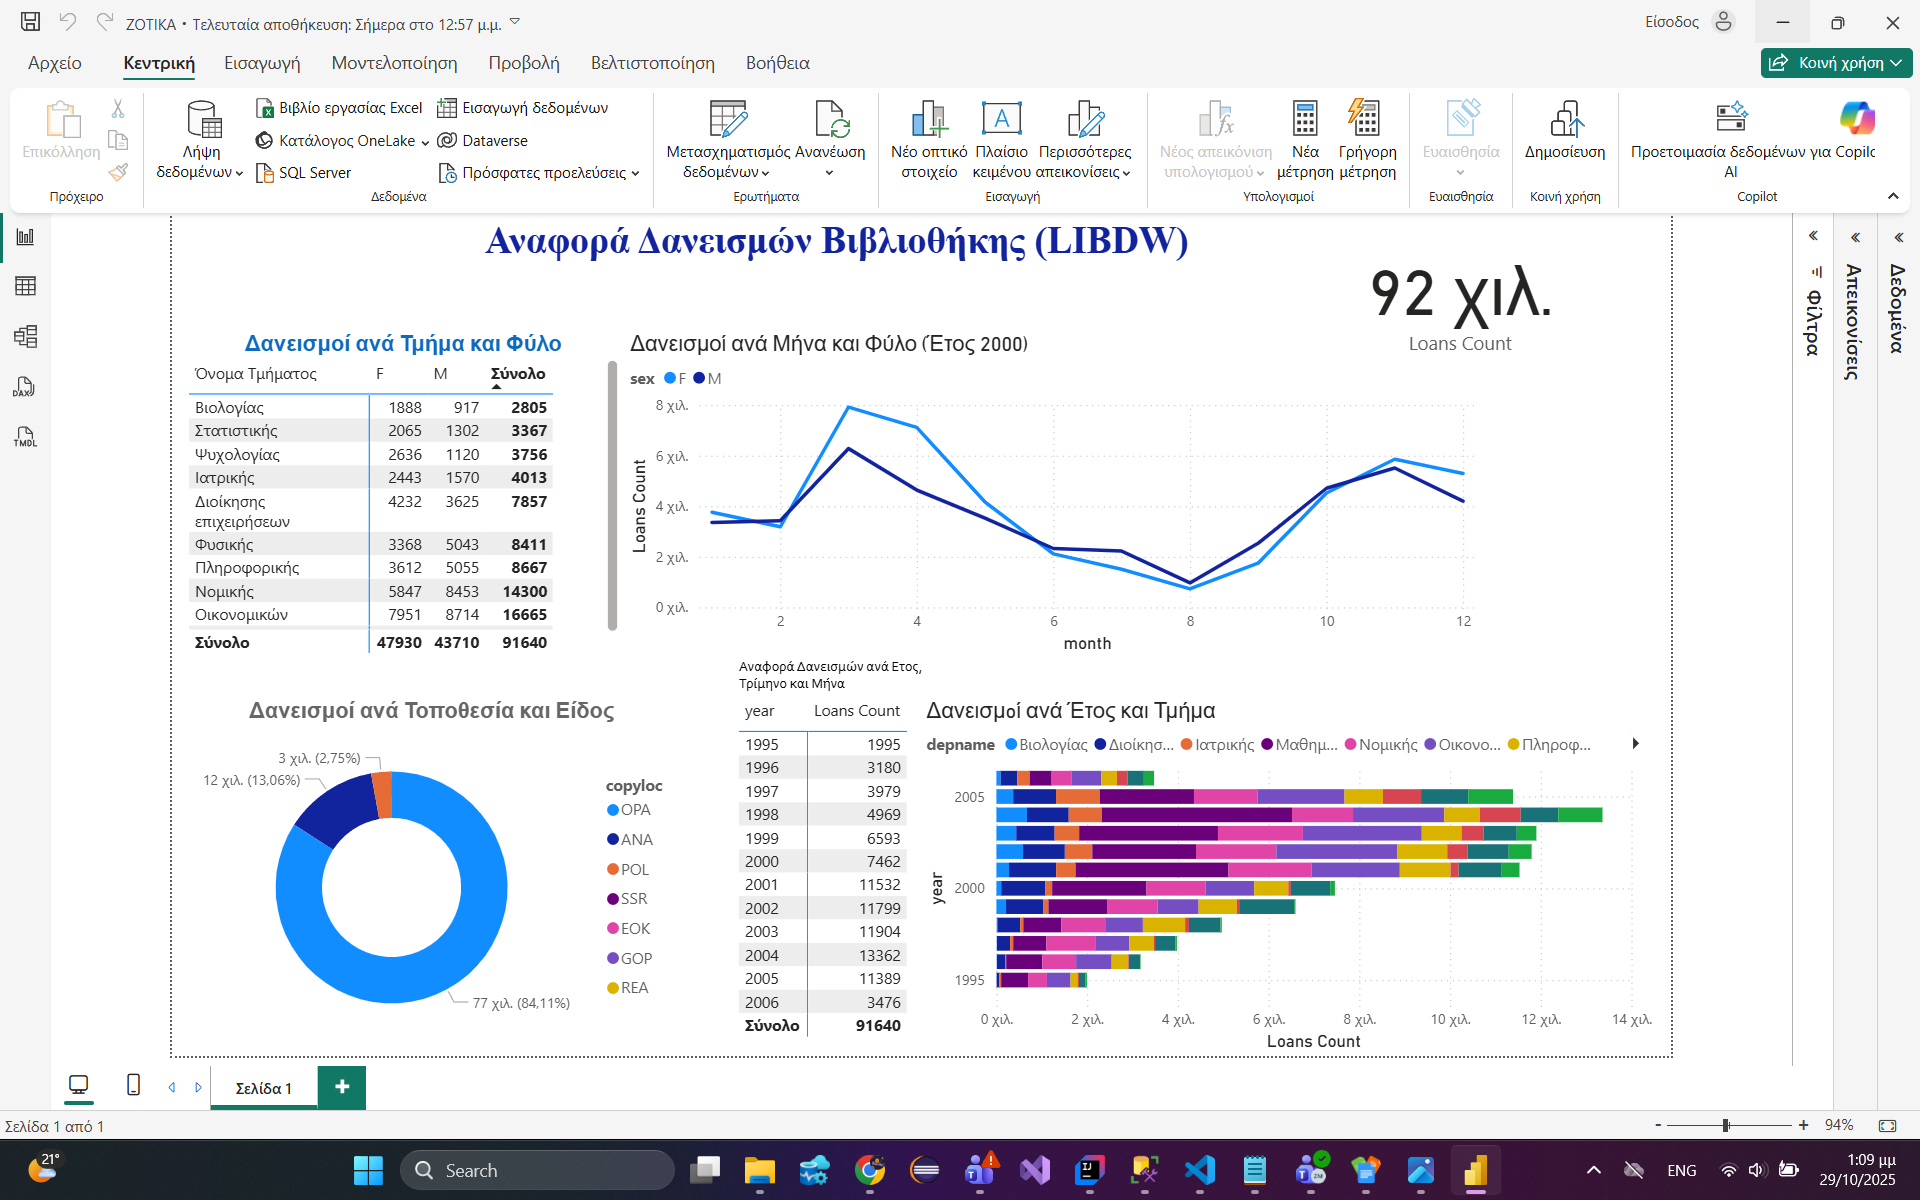

The page's visual inventory and layout, read from the dashboard file:
{"tool":"powerbi","page":{"name":"Σελίδα 1","canvas":[1280,720],"ordinal":0},"visuals":[{"type":"group","id":"g1","title":"Ομάδα 1","box":[0,0,1269.3,720.4],"z":0},{"type":"textbox","box":[9.7,0,1107.5,84.9],"z":0,"group":"g1"},{"type":"card","fields":{"Values":["Loans.Loans Count"]},"box":[945,8,309,129],"z":1000},{"type":"pivotTable","title":"Δανεισμοί ανά Τμήμα και Φύλο","fields":{"Rows":["Members.depname"],"Values":["Loans.Loans Count"],"Columns":["Members.sex"]},"box":[9.8,101,375.8,279.1],"z":1000,"group":"g1"},{"type":"donutChart","title":"Δανεισμοί ανά Τοποθεσία και Είδος ","fields":{"Category":["Copy.copyloc","Books.material"],"Y":["Loans.Loans Count"]},"box":[0,414.4,443.2,304.6],"z":2000,"group":"g1"},{"type":"lineChart","title":"Δανεισμοί ανά Μήνα και Φύλο (Έτος 2000)","fields":{"Category":["Dates.month"],"Series":["Members.sex"],"Y":["Loans.Loans Count"]},"box":[386,101,731,279],"z":3000,"group":"g1"},{"type":"pivotTable","title":"Αναφορά Δανεισμών ανά Έτος, Τρίμηνο και Μήνα","fields":{"Rows":["Dates.month","Dates.quarter","Dates.year"],"Values":["Loans.Loans Count"]},"box":[478.9,380.1,200.3,329.3],"z":4000,"group":"g1"},{"type":"barChart","title":" Δανεισμoί ανά Έτος και Τμήμα","fields":{"Category":["Dates.year"],"Y":["Loans.Loans Count"],"Series":["Members.depname"]},"box":[639.5,414.4,629.8,306],"z":5000,"group":"g1"}]}

Visuals, with their boxes on the page's 1280x720 design canvas (x1, y1, x2, y2). These are canvas units, not pixel positions in the 1920x1200 screenshot, which may show the page scaled, cropped or inside an application window:
"Ομάδα 1" group: (0,0,1269,720)
textbox: (10,0,1117,85)
card - Loans.Loans Count: (945,8,1254,137)
"Δανεισμοί ανά Τμήμα και Φύλο" pivotTable: (10,101,386,380)
"Δανεισμοί ανά Τοποθεσία και Είδος " donutChart: (0,414,443,719)
"Δανεισμοί ανά Μήνα και Φύλο (Έτος 2000)" lineChart: (386,101,1117,380)
"Αναφορά Δανεισμών ανά Έτος, Τρίμηνο και Μήνα" pivotTable: (479,380,679,709)
" Δανεισμoί ανά Έτος και Τμήμα" barChart: (640,414,1269,720)
